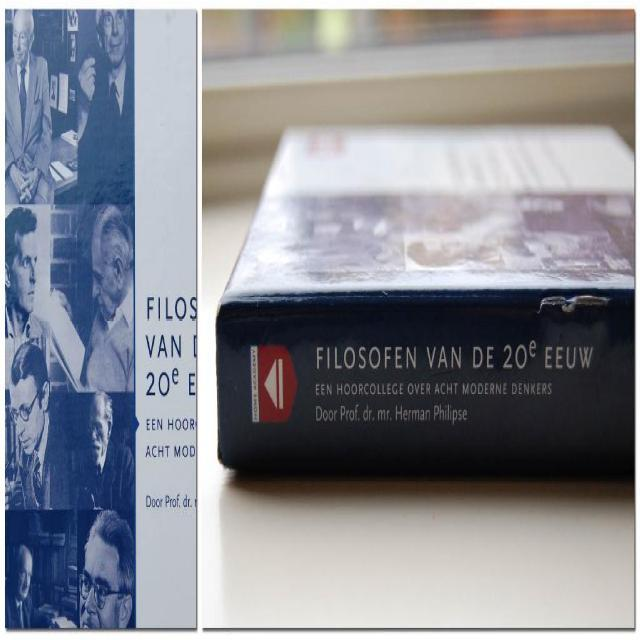book: (213, 120, 636, 483)
